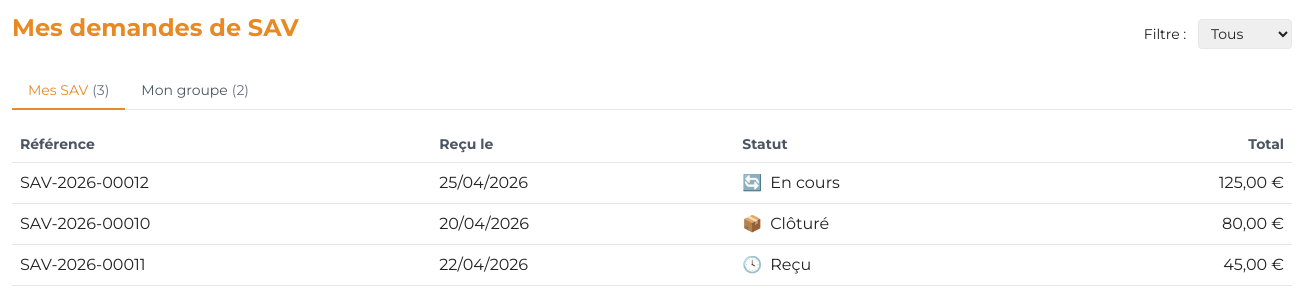
Scenario: MemberSavListView (Story 6.2 + Story 6.5) › S6.5 AC#2 (d) onglet group + filtre `q` → re-fetch avec scope=group&q=Martin
Step 1. Click the tab with test id "tab-group" → (195, 91), box [125,72,265,110]
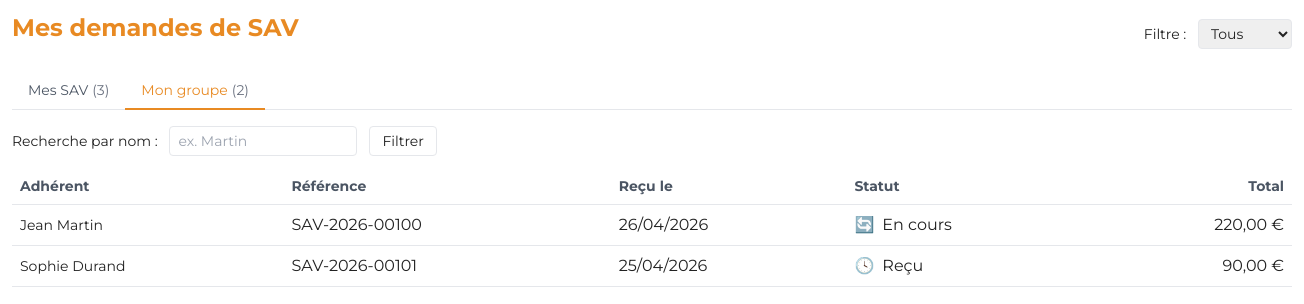
Step 2. Type "Martin" into the field with test id "group-search" → (264, 141), box [170,126,358,156]
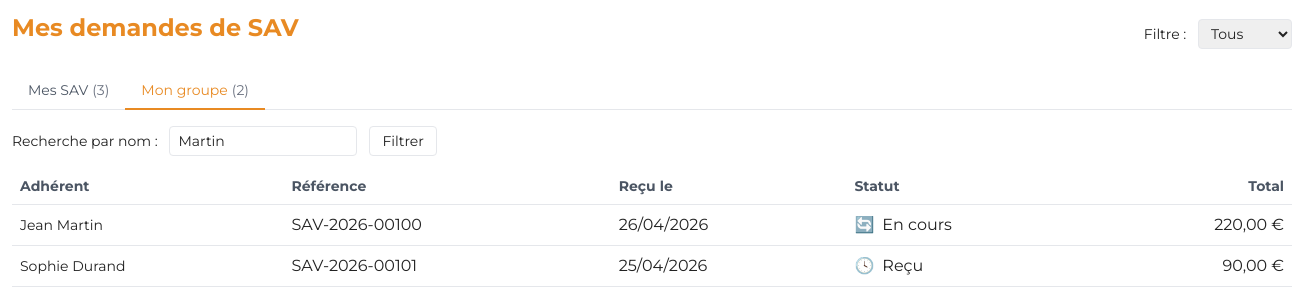
Step 3. Click the button with test id "group-search-submit" → (403, 141), box [370,126,437,156]
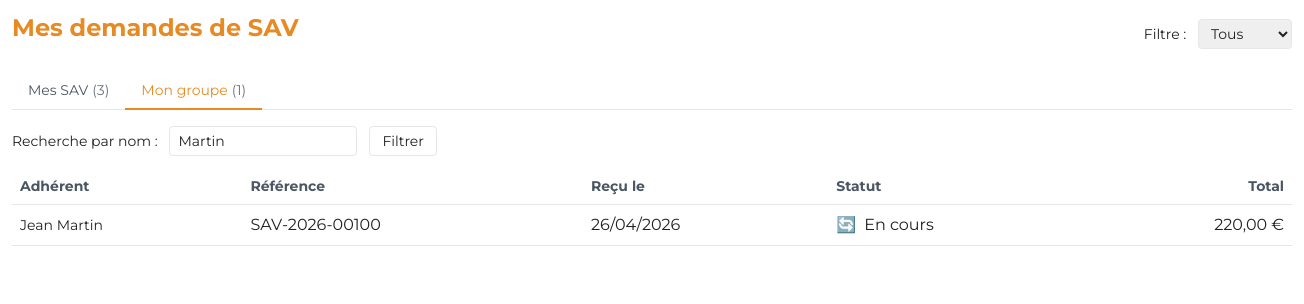
Expected: the row with test id "member-sav-row" shows "Jean Martin", [20,216,103,234]
Expected: the number of rows with test id "member-sav-row" is 1, [12,204,1292,246]
